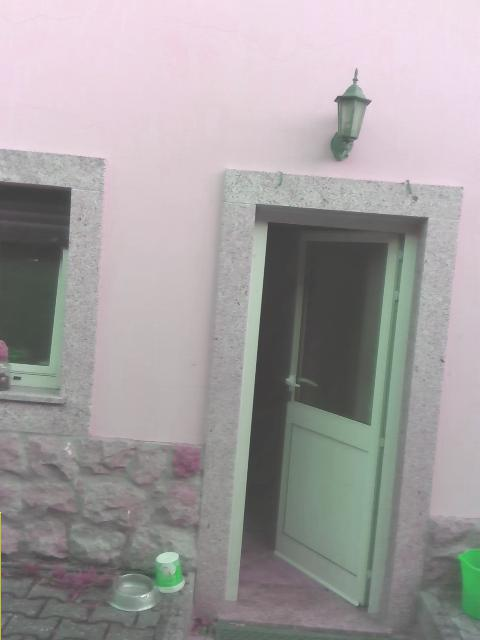semi_door: (225, 206, 427, 619)
